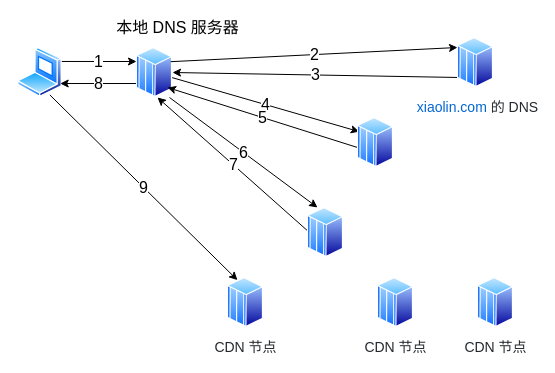
Image size: 555x373. Some labels were removed from this diagram. The shapes that lost their labels are listed below. From the top down, each one's box as (x1, y1, x2, y2) in pixels, then its label:
(357, 117, 393, 167): CDN 专用 DNS
(307, 207, 343, 257): GSLB
